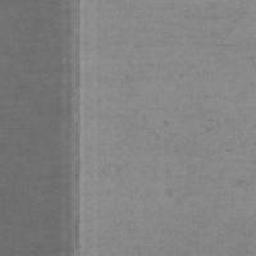Welding line: (76, 0, 82, 256)
